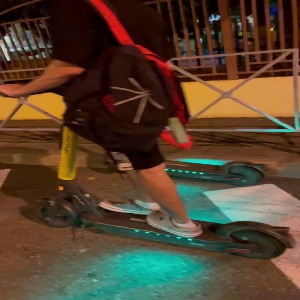human on a scooter: (1, 1, 297, 264)
